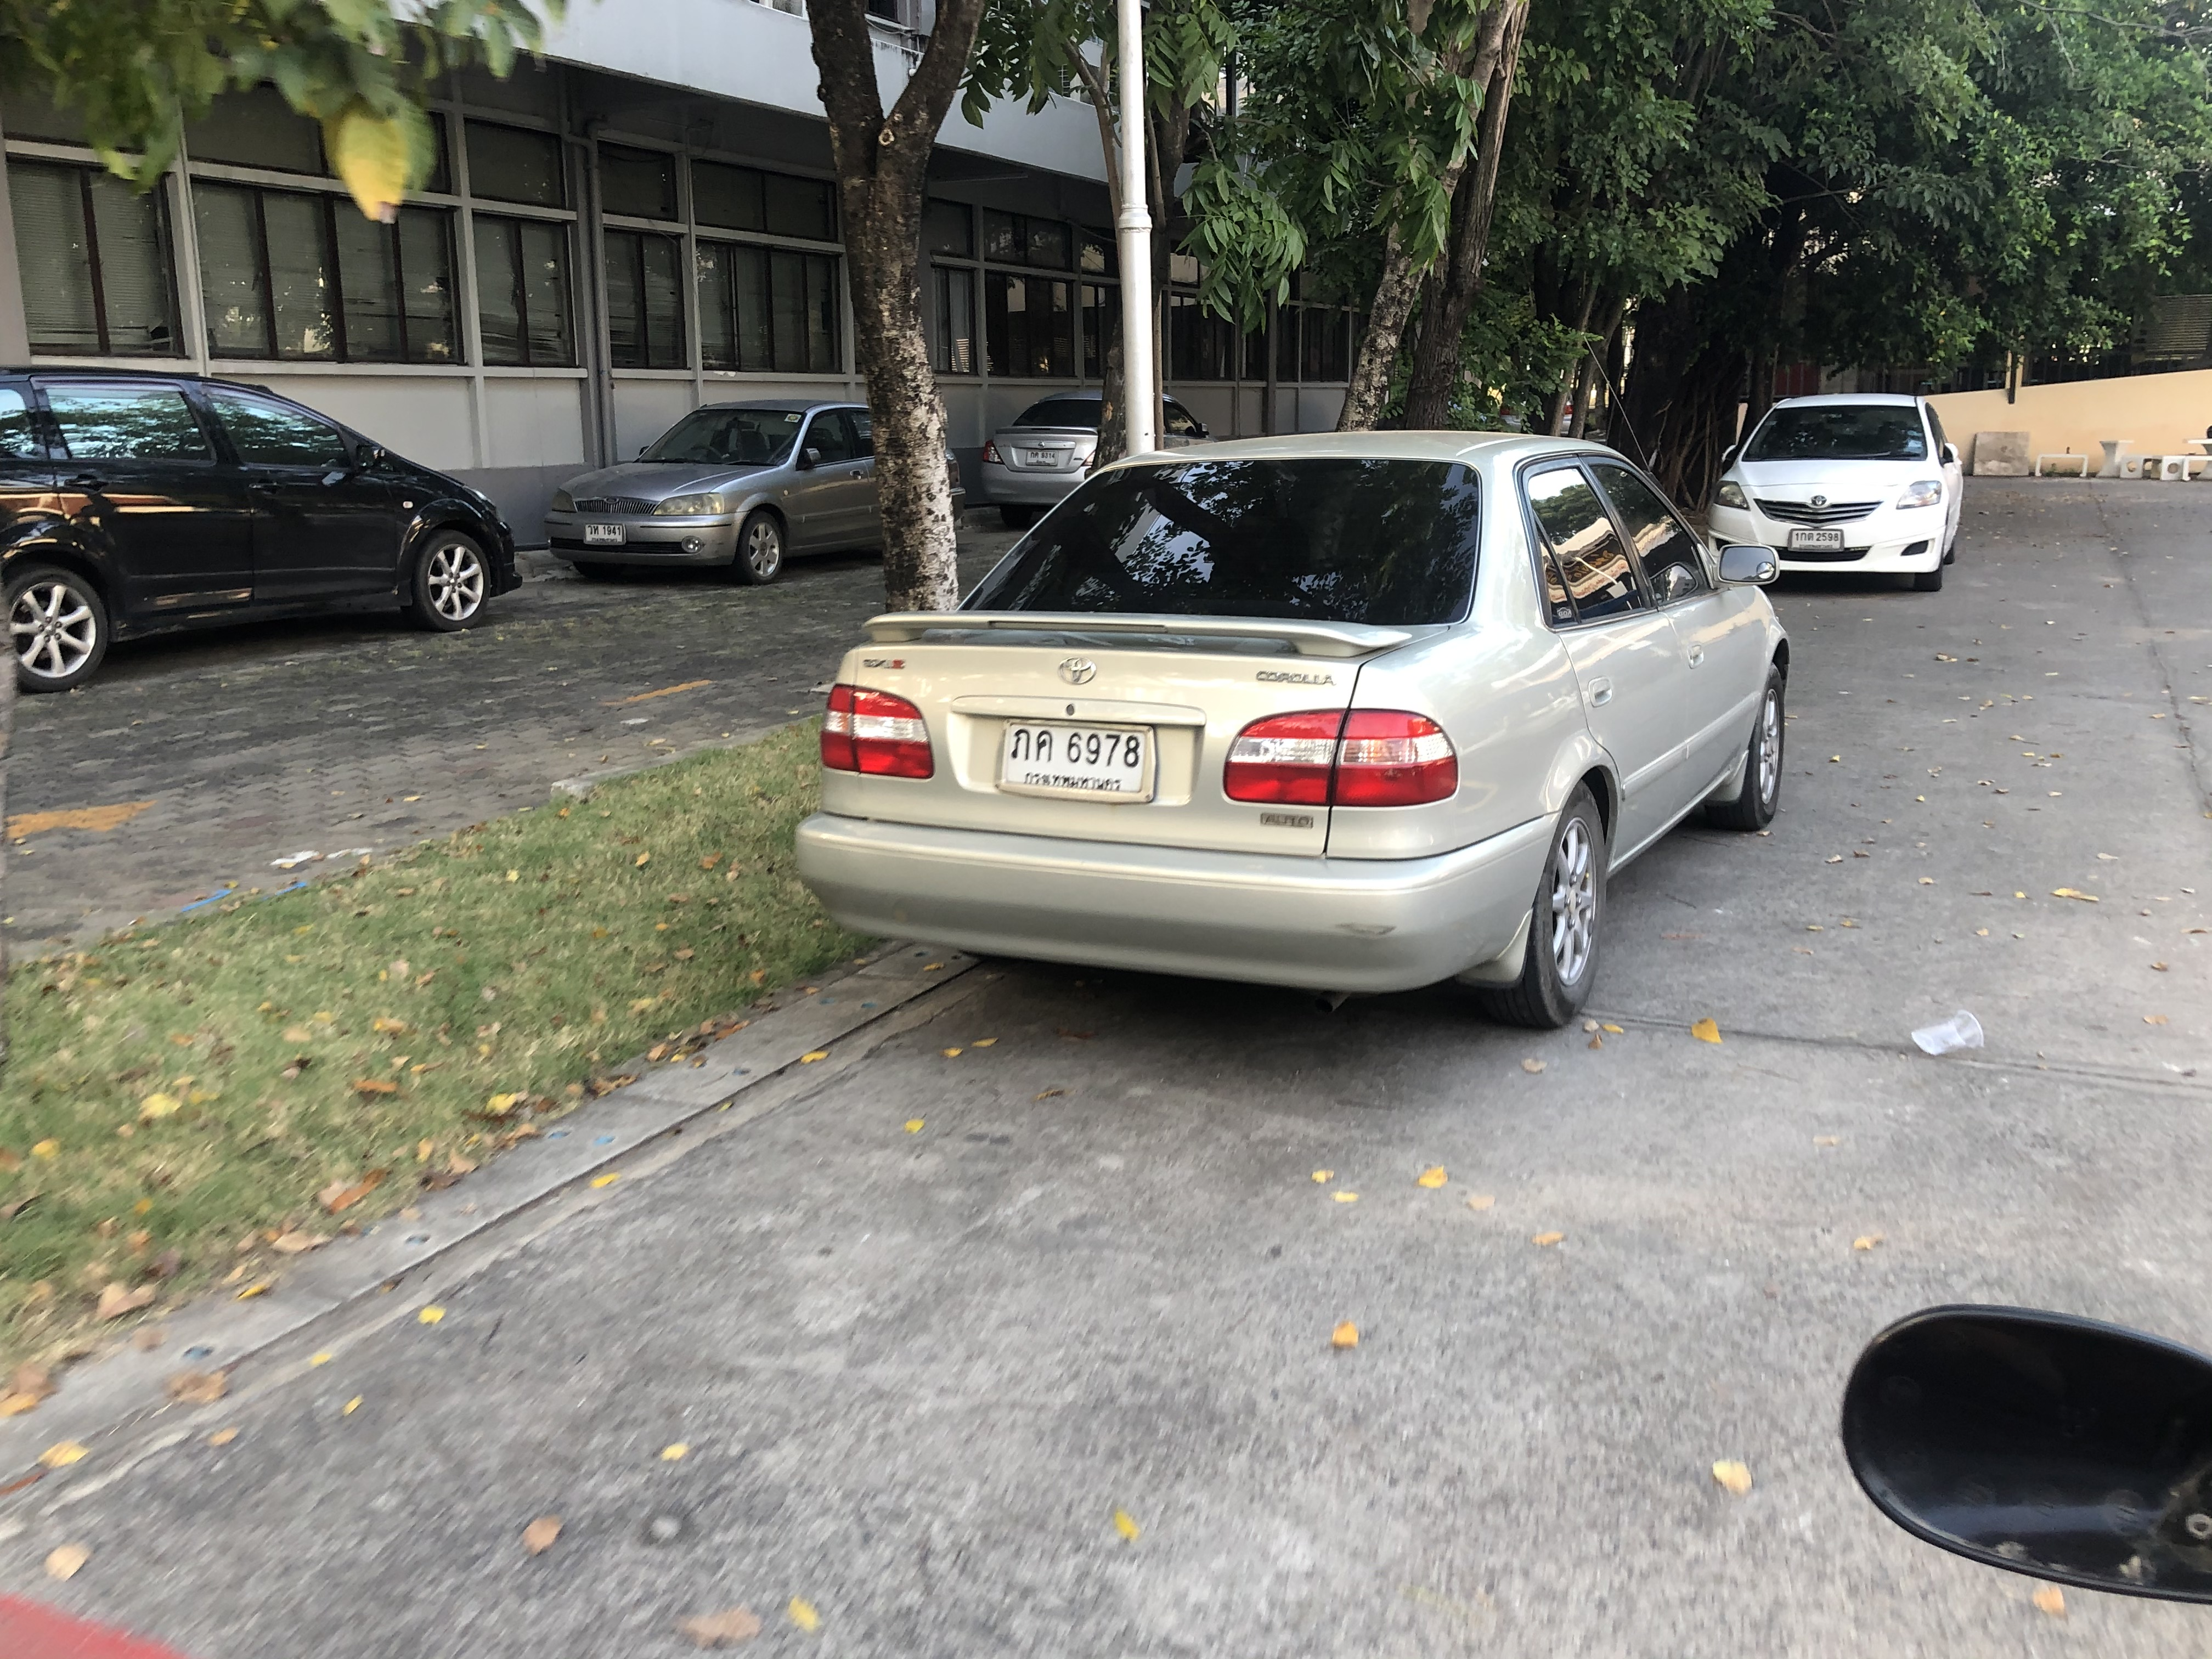in: (1003, 723, 1144, 795)
out: (995, 718, 1162, 805)
